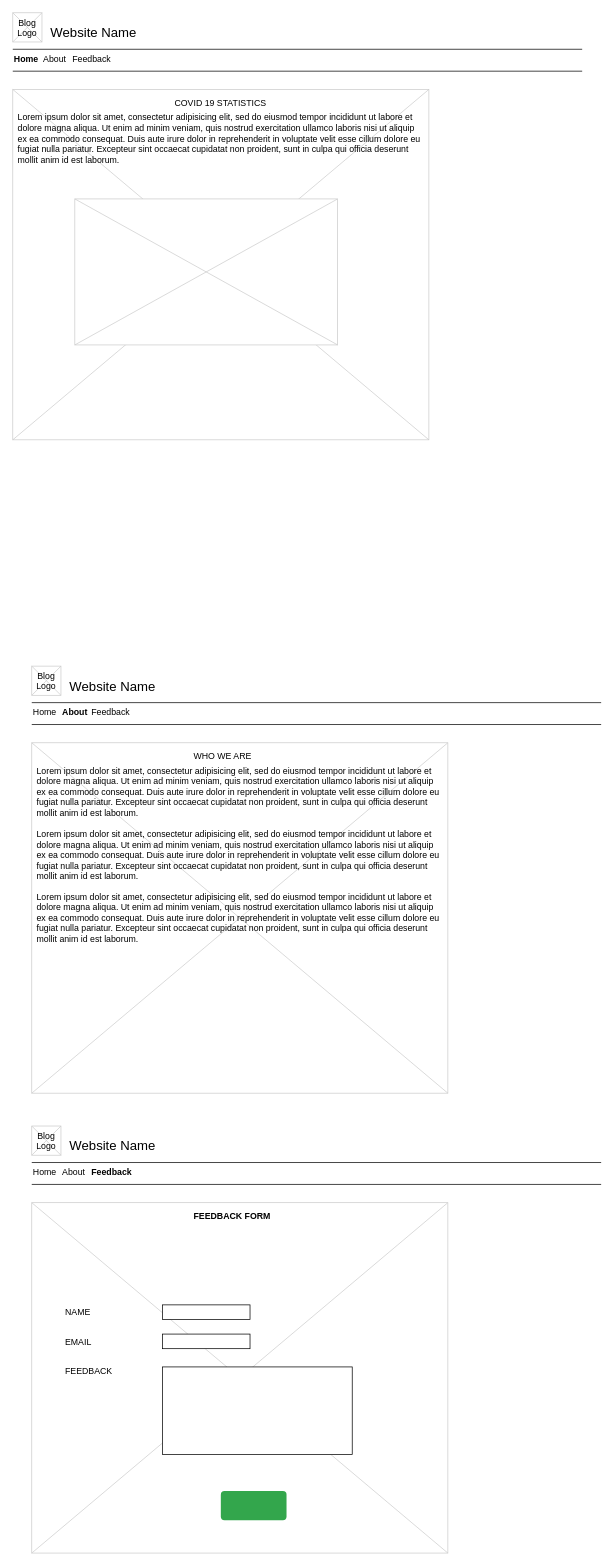
The diagram is 614 pixels wide and 1566 high, and some of its shapes have lost their labels. Each missing label, with the centre of its shape:
"LIVE STATISTICS" goes at [206,271].
"SUBMIT" goes at [253,1505].
